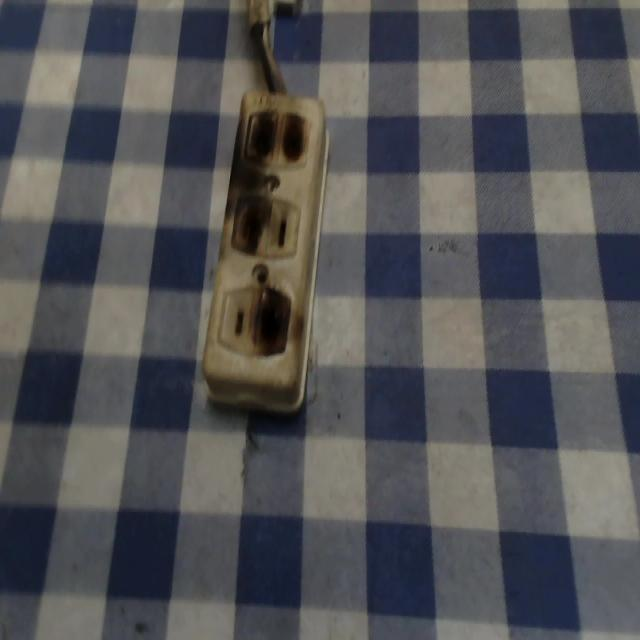-: (238, 107, 308, 164), (250, 280, 292, 357), (228, 195, 271, 249)
